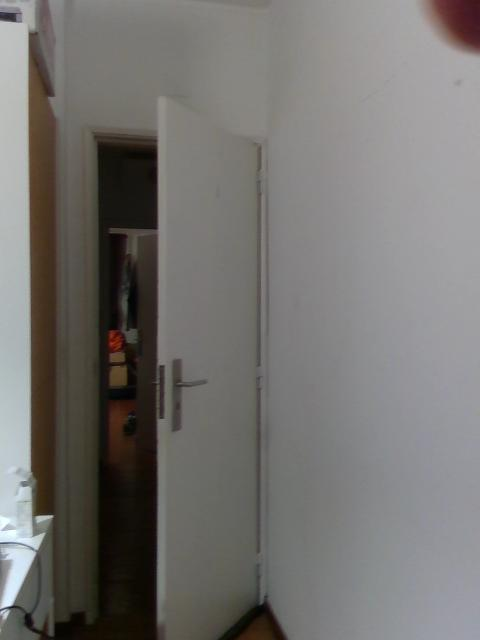semi_door: (77, 90, 269, 639)
